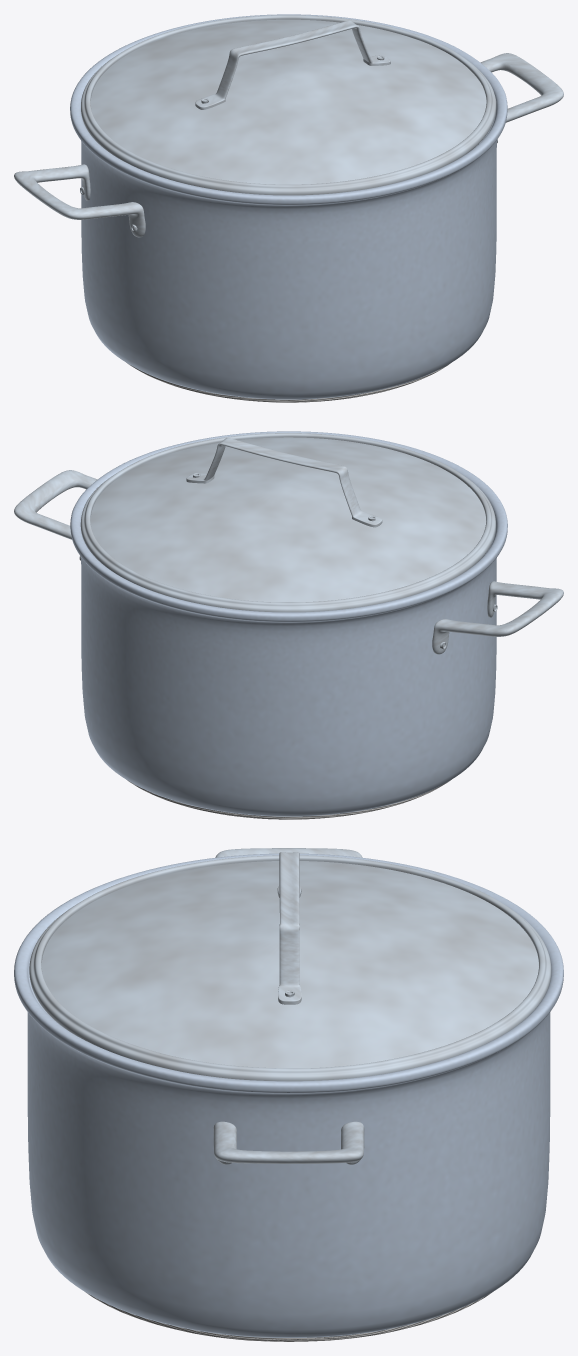
The model's file is Cooking pots.glb.
3 views of the same model, one above another, from view 1: azimuth 30°, elevation 25°; view 2: azimuth 150°, elevation 25°; view 3: azimuth 270°, elevation 25° (orthographic). The views are drawn at different scales.
Visible parts, largest first — view 1: pot, pot_lid, pot_handle, handle_lid, ground; view 2: pot, pot_lid, pot_handle, handle_lid, ground; view 3: pot, pot_lid, pot_handle, handle_lid, ground.
Boxes of the visible parts, x1,y1,x2,y2 form: pot: [70, 14, 507, 399]; pot_lid: [81, 15, 496, 195]; pot_handle: [14, 53, 563, 237]; handle_lid: [195, 20, 390, 109]; ground: [127, 363, 450, 402]; pot: [70, 431, 507, 816]; pot_lid: [80, 433, 495, 612]; pot_handle: [14, 470, 563, 654]; handle_lid: [186, 438, 382, 527]; ground: [127, 780, 450, 819]; pot: [14, 853, 563, 1337]; pot_lid: [29, 855, 551, 1081]; pot_handle: [213, 848, 364, 1164]; handle_lid: [277, 852, 301, 1004]; ground: [85, 1292, 492, 1341].
Size of the model in its own units: 38.52 by 20.82 by 28.9.
Materials: 6 (6 with a texture image).
